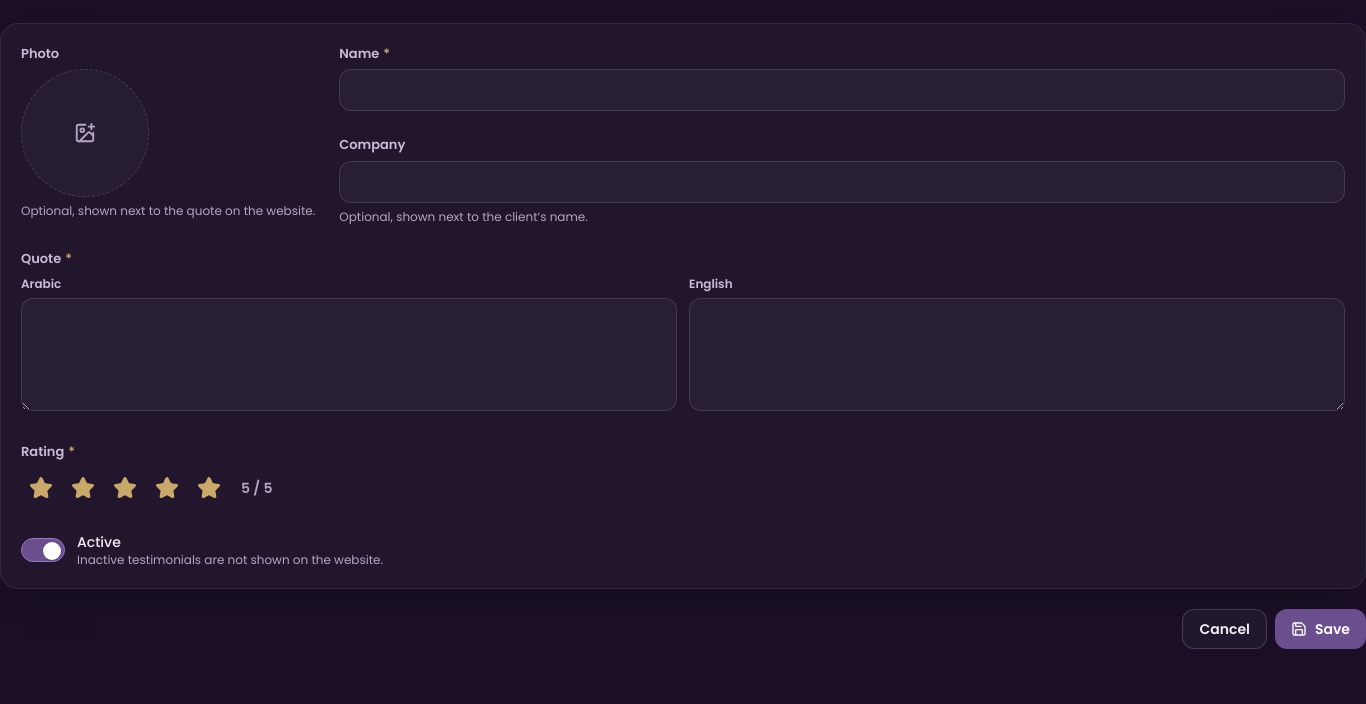
Test: TestimonialCreate › shows the server validation errors on the matching fields (name, quote, avatar, rating)
Type "Omar Khaled" into the field labelled "Name" at (842, 90), box [339, 69, 1345, 111]
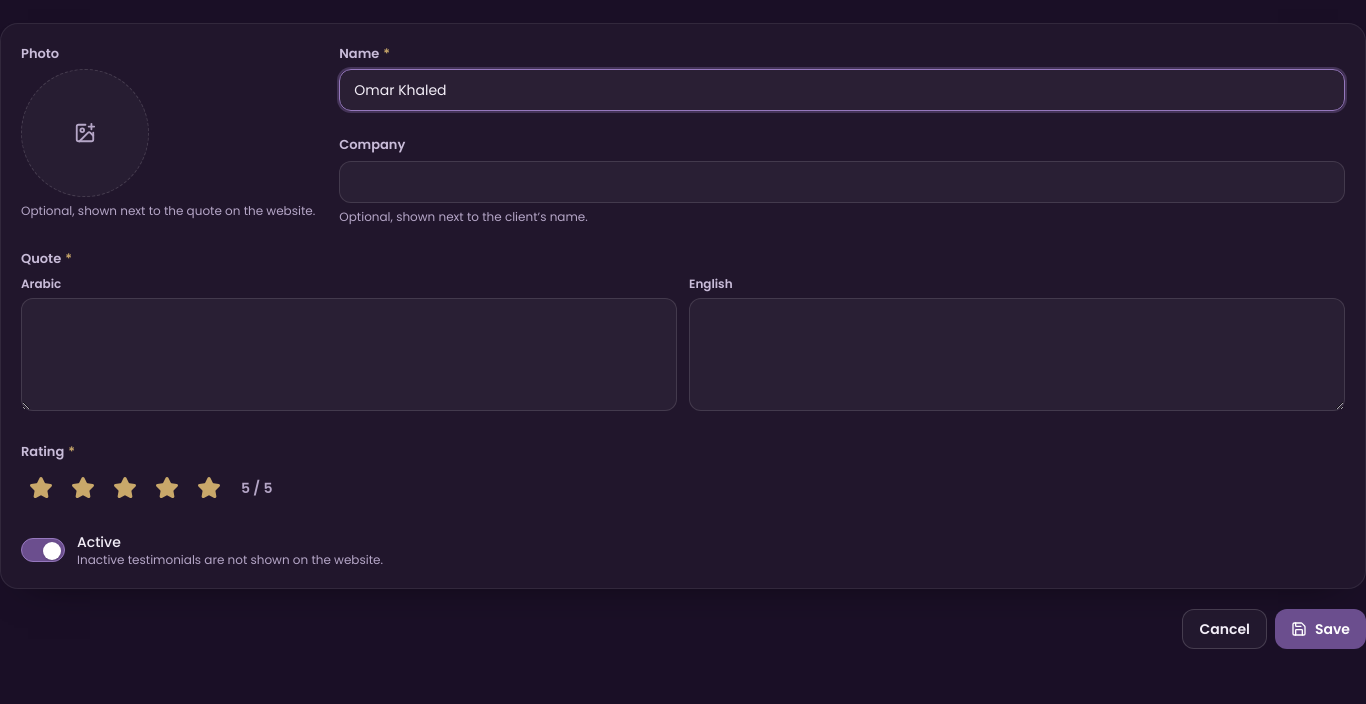
Type "ممتاز" into the text box named "Quote (Arabic)" at (349, 355), box [21, 298, 677, 411]
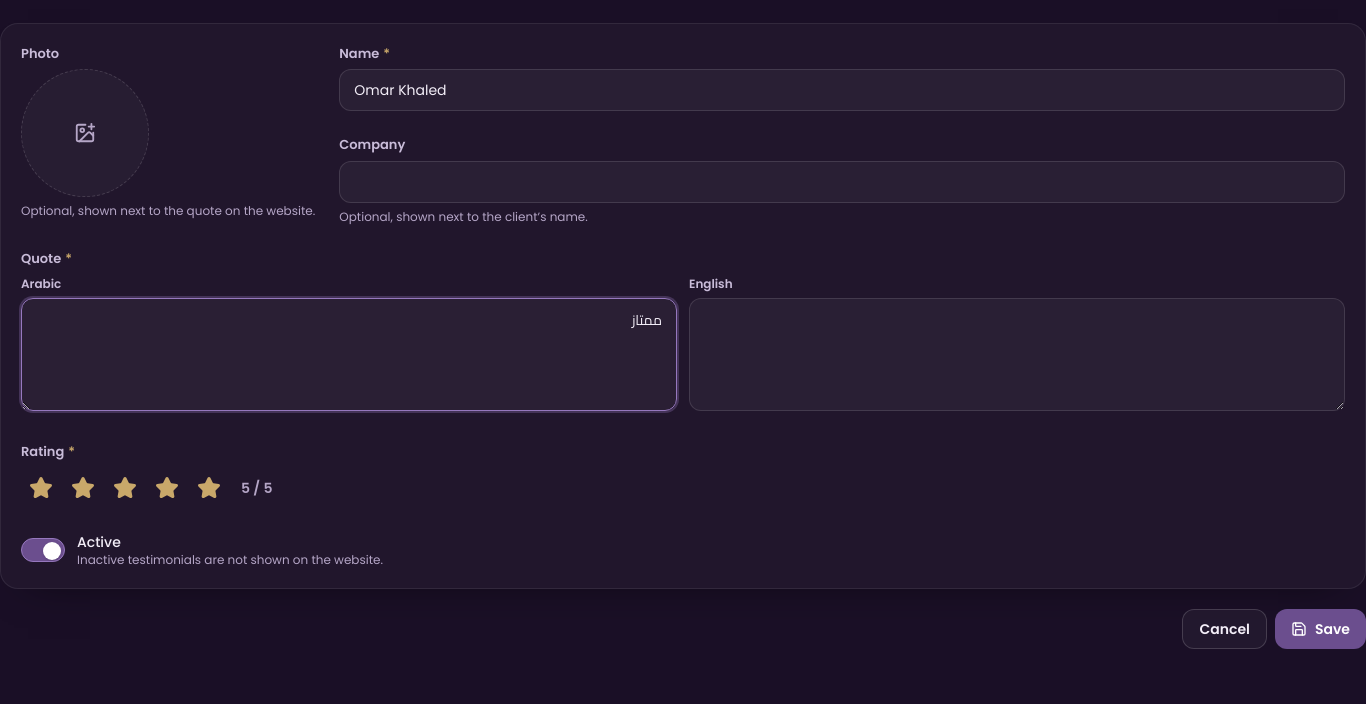
Type "Great work" into the text box named "Quote (English)" at (1017, 355), box [689, 298, 1345, 411]
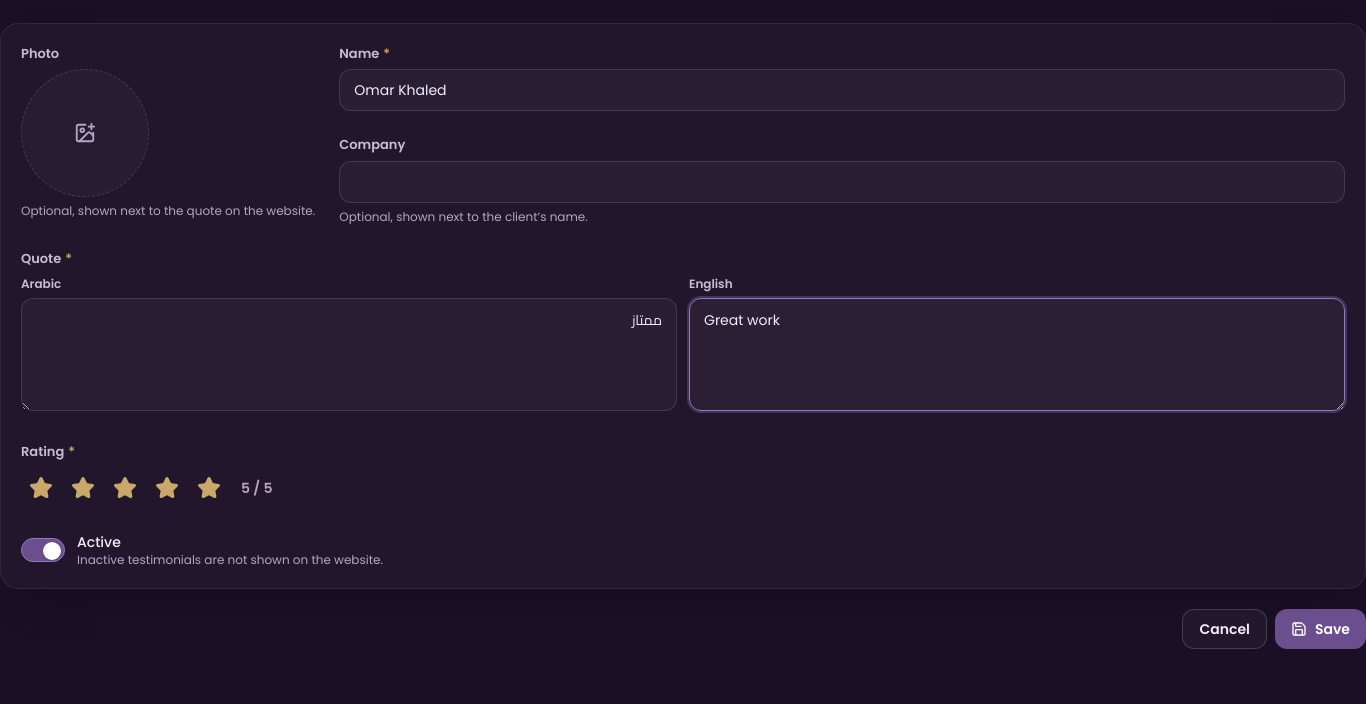
Click the button "Save" at (1320, 629), box [1275, 609, 1365, 649]
(page scrolled)
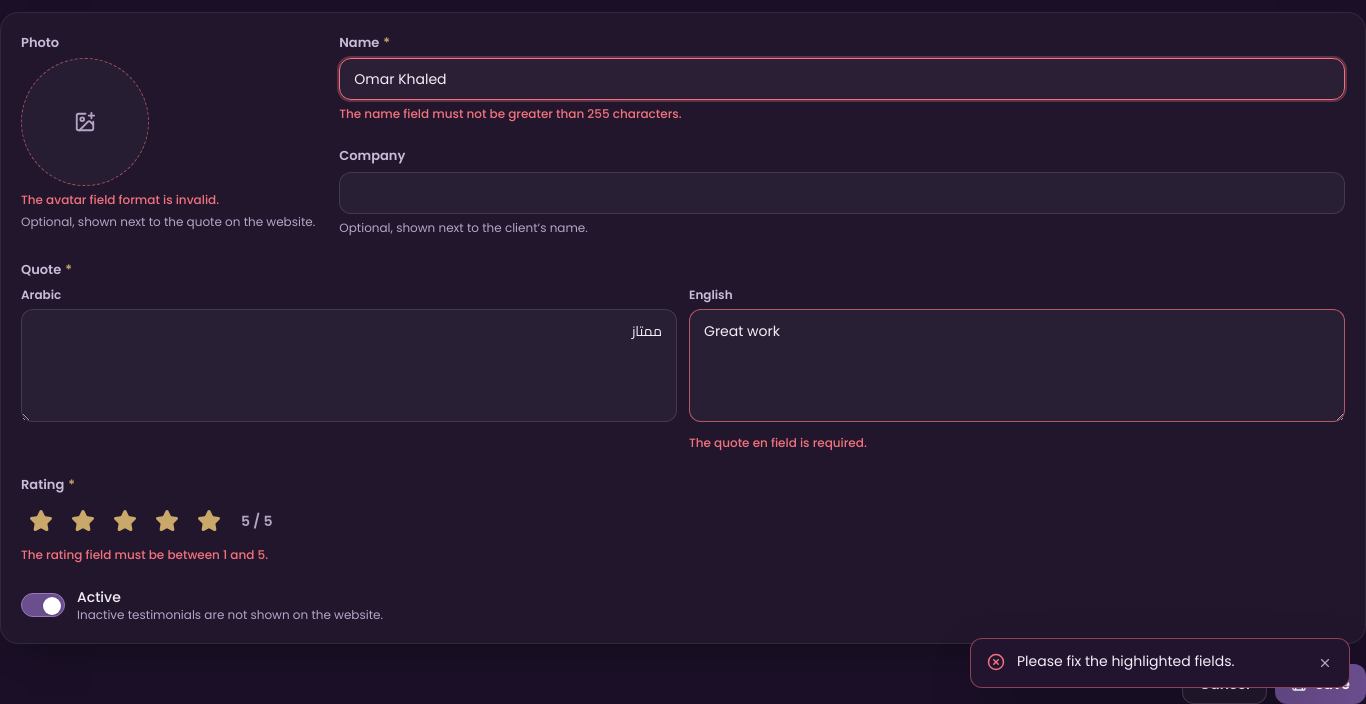
Now the text "The name field must not be greater than 255 characters." is shown, box [339, 105, 682, 122]
Now the text "The quote en field is required." is shown, box [689, 434, 867, 451]
Now the text "The avatar field format is invalid." is shown, box [21, 191, 219, 208]
